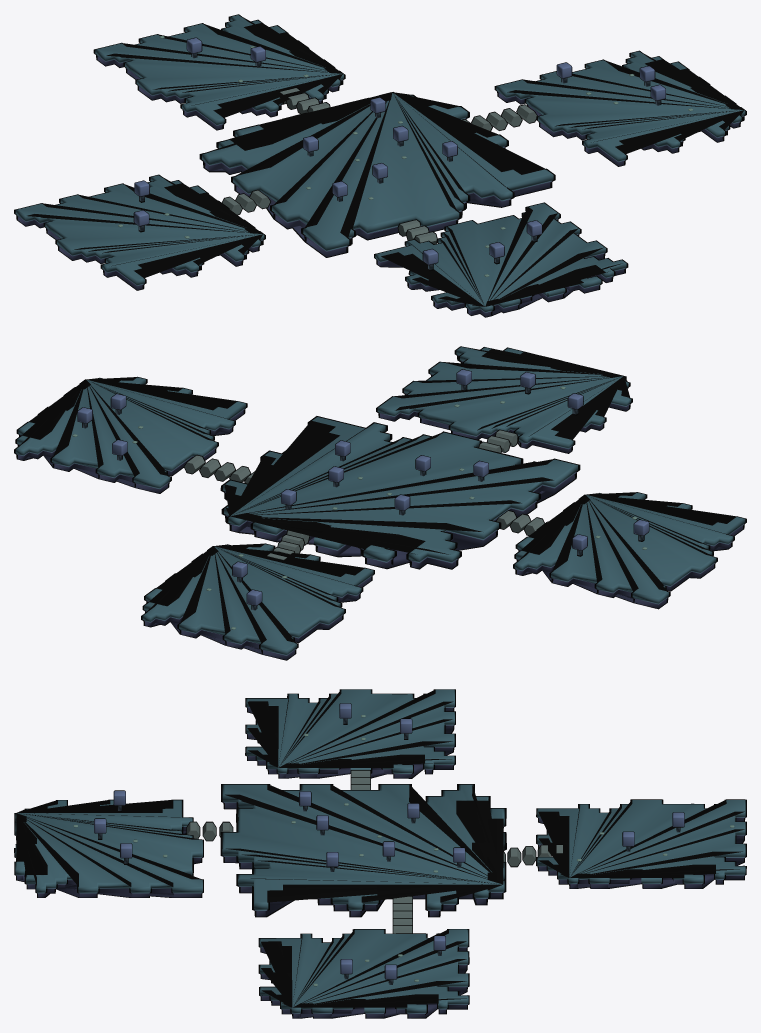
The model's file is blue.fbx.
3 views of the same model, one above another, from view 1: azimuth 30°, elevation 25°; view 2: azimuth 150°, elevation 25°; view 3: azimuth 270°, elevation 25° (orthographic).
Visible parts, largest first — view 1: Island.001, Island.002, Island.004, Island.003, Island.005; view 2: Island.001, Island.002, Island.005, Island.003, Island.004; view 3: Island.001, Island.004, Island.005, Island.003, Island.002.
Boxes of the visible parts, left/top/right/bottom form: Island.001: left=199, top=92, right=555, bottom=257; Island.002: left=14, top=174, right=265, bottom=290; Island.004: left=374, top=202, right=628, bottom=317; Island.003: left=494, top=50, right=746, bottom=166; Island.005: left=93, top=14, right=345, bottom=130; Island.001: left=220, top=416, right=580, bottom=569; Island.002: left=513, top=492, right=746, bottom=609; Island.005: left=141, top=543, right=374, bottom=660; Island.003: left=14, top=376, right=247, bottom=493; Island.004: left=376, top=346, right=632, bottom=453; Island.001: left=220, top=784, right=506, bottom=917; Island.004: left=14, top=799, right=203, bottom=897; Island.005: left=536, top=799, right=746, bottom=888; Island.003: left=258, top=929, right=469, bottom=1018; Island.002: left=245, top=689, right=455, bottom=778.
Bounding box in the file's own units: 390608 × 18158 × 377852.
